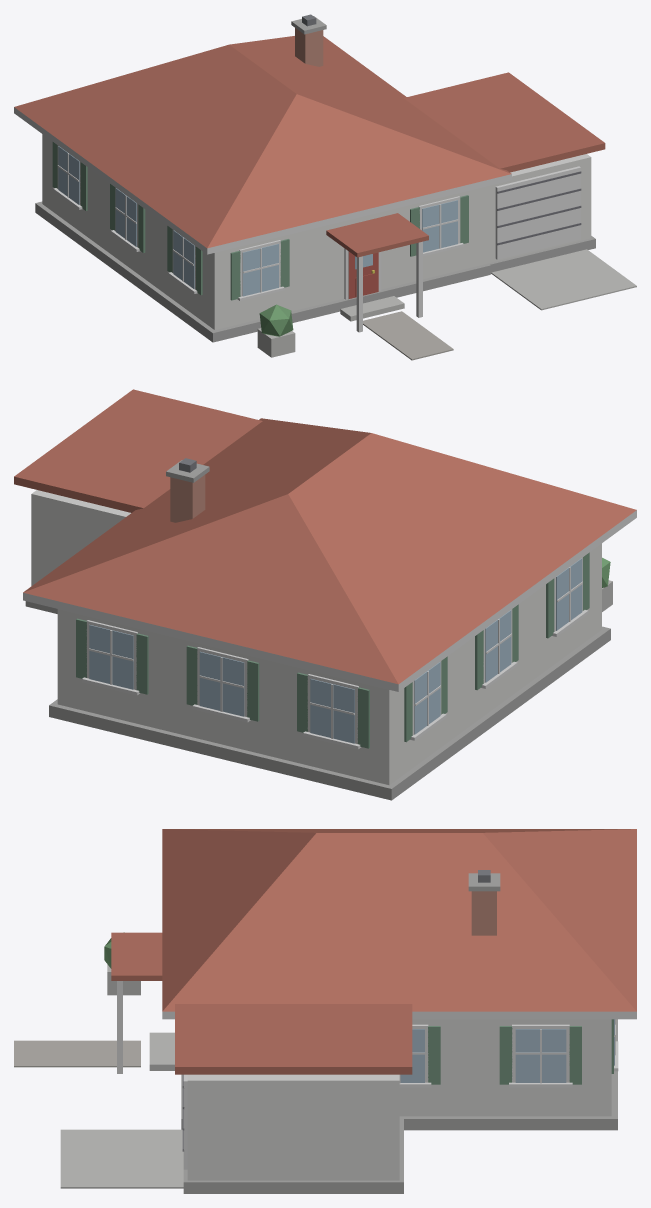
File: Villa_09.glb
3 renders of one model, top to bottom at view 1: azimuth 30°, elevation 25°; view 2: azimuth 150°, elevation 25°; view 3: azimuth 270°, elevation 25°, orthographic. The views are drawn at different scales.
Visible parts, largest first — view 1: Villa_09; view 2: Villa_09; view 3: Villa_09.
Boxes of the visible parts, <box> form: Villa_09: <box>14,14,636,360</box>; Villa_09: <box>14,389,636,800</box>; Villa_09: <box>14,829,636,1193</box>.
Size of the model in its own units: 13.5 by 5.8 by 14.7.
